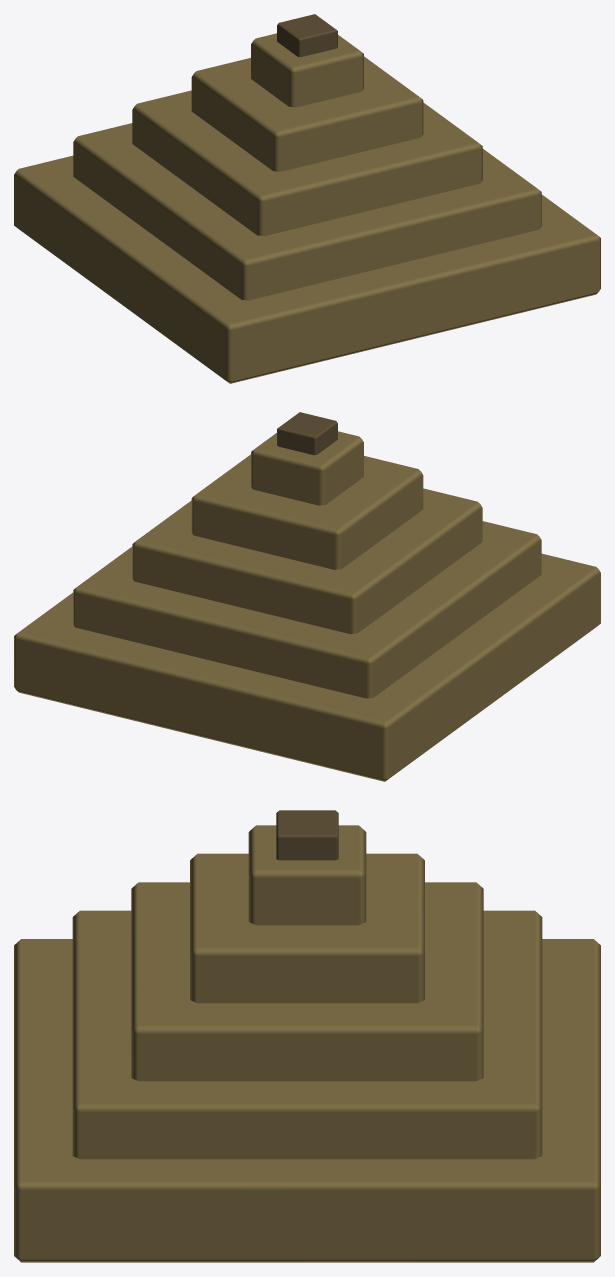
The model's file is village-roof-hip.66bd268c.glb.
3 views of the same model, one above another, from view 1: azimuth 30°, elevation 25°; view 2: azimuth 150°, elevation 25°; view 3: azimuth 270°, elevation 25° (orthographic). The views are drawn at different scales.
Visible parts, largest first — view 1: body; view 2: body; view 3: body.
Part boxes in pixels (x1,y1,x2,y2): body: [14, 14, 600, 383]; body: [14, 412, 600, 781]; body: [14, 810, 600, 1262].
Bounding box in the file's own units: 1.5 × 0.9 × 1.5.
